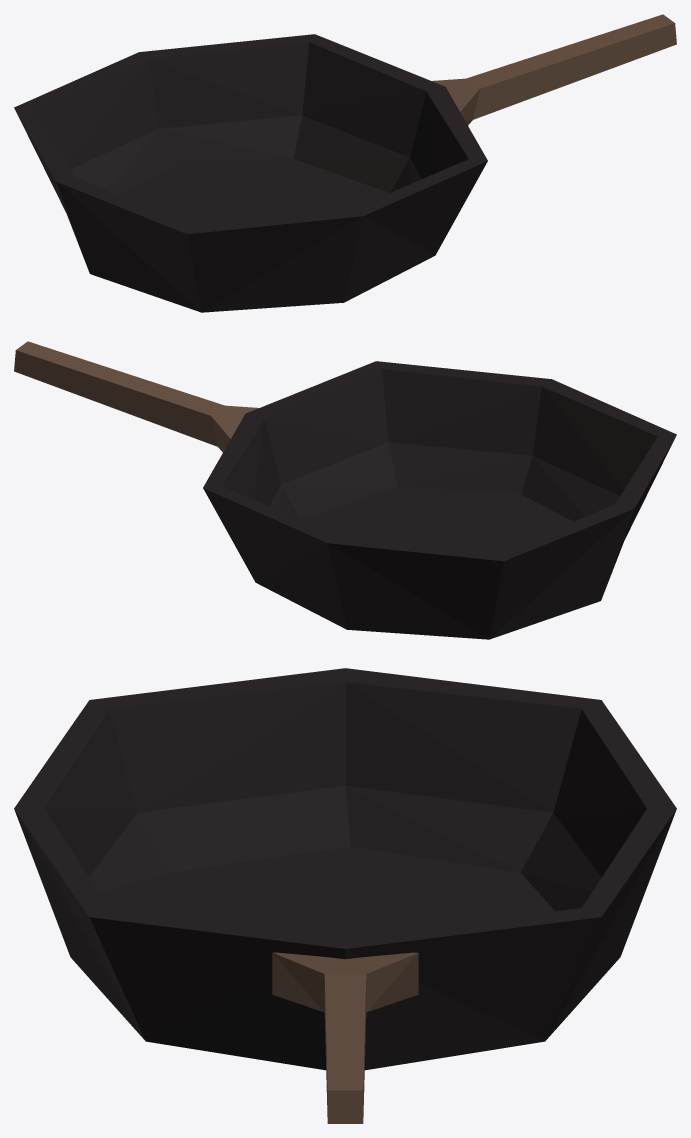
The model's file is castIronSkilletWoodHandle.fbx.
The picture shows the model from 3 angles, top to bottom: view 1: azimuth 30°, elevation 25°; view 2: azimuth 150°, elevation 25°; view 3: azimuth 270°, elevation 25°; orthographic projection. The views are drawn at different scales.
Visible parts, largest first — view 1: castIronSkilletWoodHandle; view 2: castIronSkilletWoodHandle; view 3: castIronSkilletWoodHandle.
Part boxes in pixels (<box>): castIronSkilletWoodHandle: <box>14,14,676,312</box>; castIronSkilletWoodHandle: <box>14,341,676,639</box>; castIronSkilletWoodHandle: <box>14,668,676,1123</box>.
Size of the model in its own units: 74.2 by 13.15 by 46.88.
Materials: 1 (1 with a texture image).
